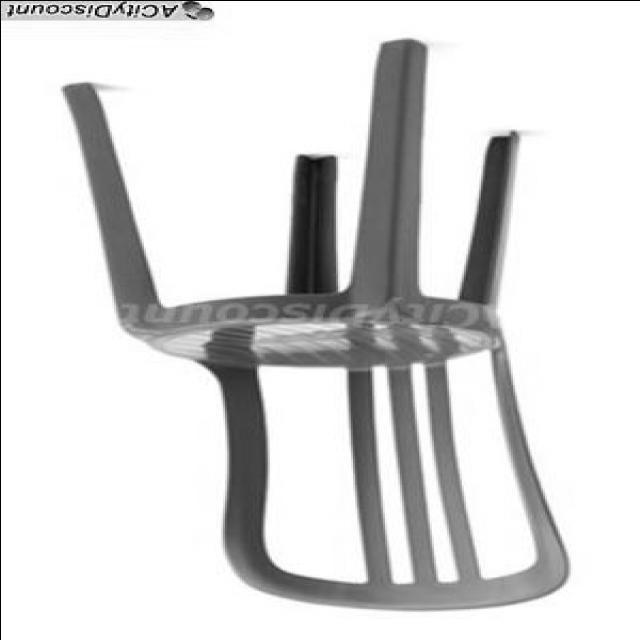chair: (56, 39, 572, 612)
